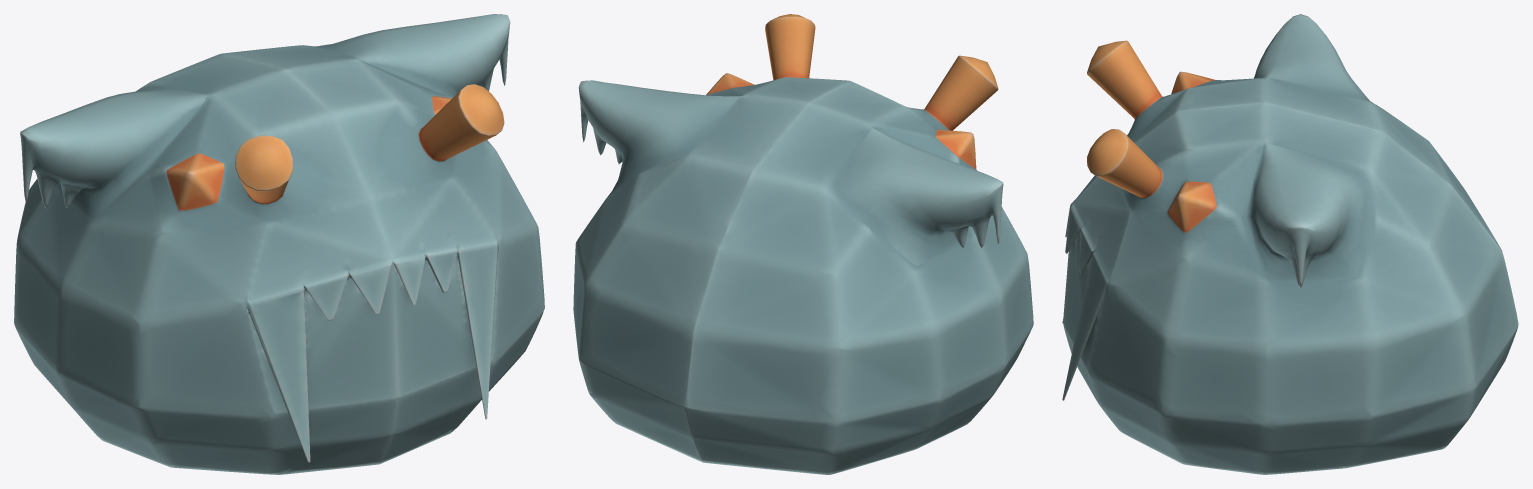
The model's file is hardPlayer00.fbx.
3 views of the same model, side by side, from view 1: azimuth 30°, elevation 25°; view 2: azimuth 150°, elevation 25°; view 3: azimuth 270°, elevation 25° (orthographic). The views are drawn at different scales.
Visible parts, largest first — view 1: hardPlayer_low; view 2: hardPlayer_low; view 3: hardPlayer_low.
Boxes of the visible parts, <box> form: hardPlayer_low: <box>14,14,544,474</box>; hardPlayer_low: <box>573,14,1033,474</box>; hardPlayer_low: <box>1062,14,1518,474</box>.
Bounding box in the file's own units: 50.65 × 34.23 × 46.
1 material, 1 textured.
